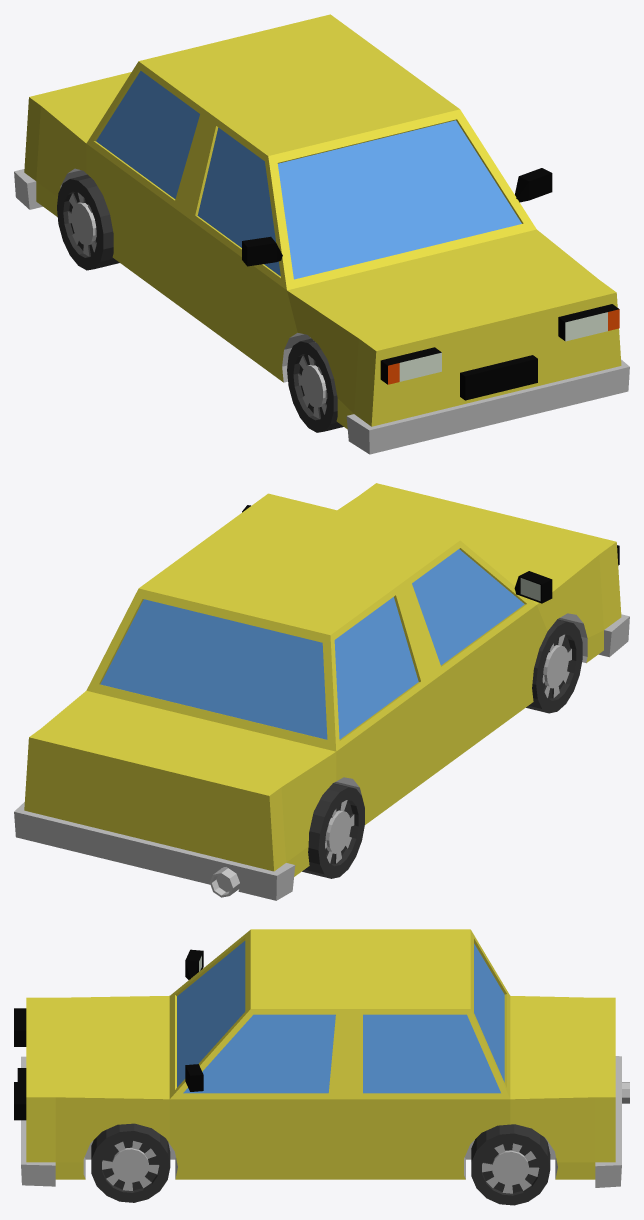
Rendered from car_a3.glb.
The picture shows the model from 3 angles, top to bottom: view 1: azimuth 30°, elevation 25°; view 2: azimuth 150°, elevation 25°; view 3: azimuth 270°, elevation 25°; orthographic projection. The views are drawn at different scales.
Parts seen in each view (by area): view 1: Car_MainBody, BackWheels, FrontRightWheel, FrontLights, numberPlate, BackMirrors; view 2: Car_MainBody, BackWheels, FrontRightWheel, BackMirrors, Exhaust; view 3: Car_MainBody, BackWheels, FrontLeftWheel, FrontLights, BackMirrors.
Boxes of the visible parts, x1,y1,x2,y2 form: Car_MainBody: [14, 14, 629, 454]; BackWheels: [57, 174, 119, 270]; FrontRightWheel: [287, 338, 343, 432]; FrontLights: [380, 304, 619, 384]; numberPlate: [460, 355, 537, 400]; BackMirrors: [242, 168, 552, 266]; Car_MainBody: [14, 483, 629, 900]; BackWheels: [302, 783, 364, 878]; FrontRightWheel: [526, 619, 582, 713]; BackMirrors: [242, 505, 552, 603]; Exhaust: [209, 867, 240, 897]; Car_MainBody: [21, 929, 621, 1187]; BackWheels: [471, 1124, 550, 1205]; FrontLeftWheel: [91, 1123, 170, 1202]; FrontLights: [14, 1008, 26, 1120]; BackMirrors: [185, 949, 203, 1091].
Bounding box in the file's own units: 2.44 × 1.64 × 5.03.
